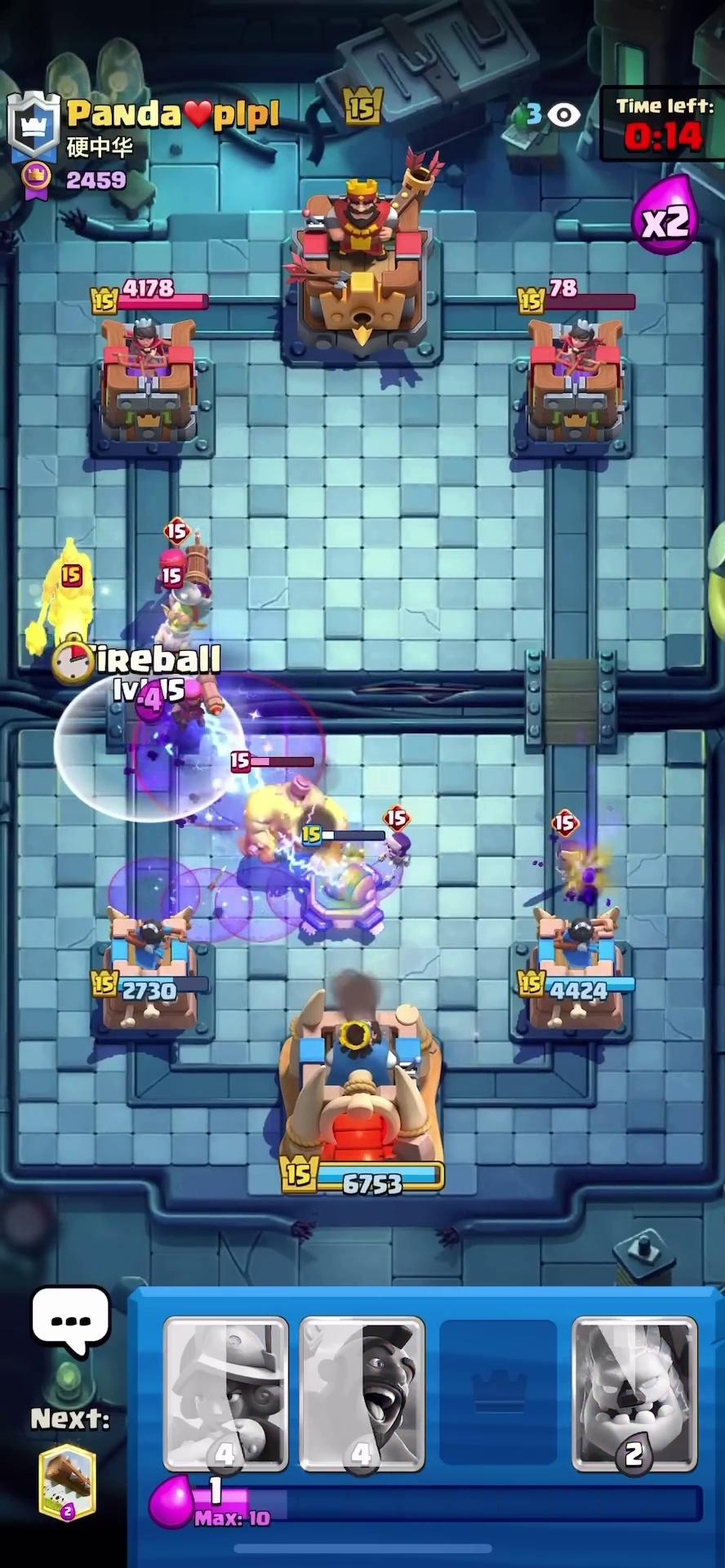cannon: (296, 835, 378, 937)
